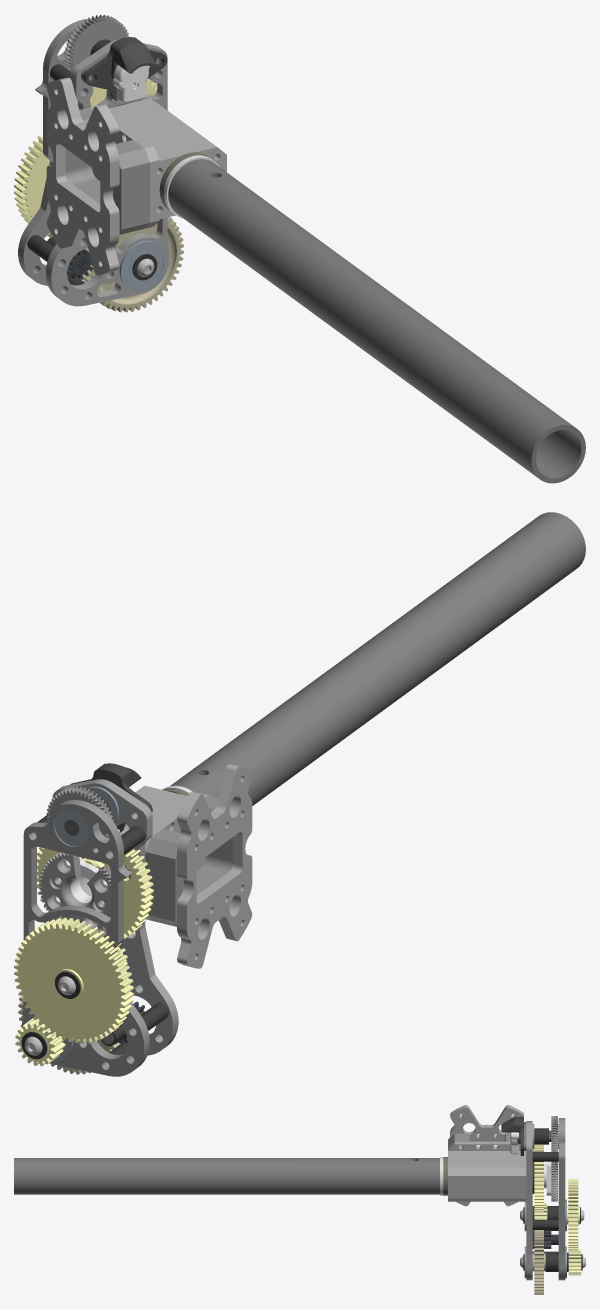
3 renders of one model, top to bottom at view 1: azimuth 30°, elevation 25°; view 2: azimuth 150°, elevation 25°; view 3: azimuth 270°, elevation 25°, orthographic. The views are drawn at different scales.
Parts seen in each view (by area): view 1: Part 5, Part 3 (×2), Part 1 (×3), Part 2, P333, 48t 20dp Aluminum 1/2" Hex Bore Pocketed Gear (WCP-0137), 54t 20dp Aluminum 1/2" Hex Bore Gear (217-3573), Spur gear (48 teeth), .5" Hex ID 1.125" OD Flanged Bearing (217-2734), cover rev_D; view 2: Part 5, Part 3 (×2), 54t 20dp Aluminum 1/2" Hex Bore Gear (217-3573) (×2), Part 1 (×3), Part 2, Spur gear (60 teeth), 18t 20dp Steel 1/2" Hex Bore Gear (217-5460), P333, Spur gear (48 teeth), .375" Round ID .875" OD Flanged Bearing (217-2733), Part 4; view 3: Part 5, Part 1, Part 3 (×2), 54t 20dp Aluminum 1/2" Hex Bore Gear (217-3573) (×2), Part 2, Spacer (Configurable) (×3), 48t 20dp Aluminum 1/2" Hex Bore Pocketed Gear (WCP-0137), P333, 18t 20dp Steel 1/2" Hex Bore Gear (217-5460), Spur gear (60 teeth).
Boxes of the visible parts, x1=… form: Part 5: x1=168, y1=159, x2=585, y2=483; Part 3 (×2): x1=18, y1=18, x2=119, y2=285; Part 1 (×3): x1=65, y1=98, x2=226, y2=234; Part 2: x1=46, y1=39, x2=169, y2=306; P333: x1=83, y1=37, x2=167, y2=100; 48t 20dp Aluminum 1/2" Hex Bore Pocketed Gear (WCP-0137): x1=82, y1=217, x2=183, y2=312; 54t 20dp Aluminum 1/2" Hex Bore Gear (217-3573): x1=14, y1=136, x2=52, y2=237; Spur gear (48 teeth): x1=65, y1=14, x2=129, y2=71; .5" Hex ID 1.125" OD Flanged Bearing (217-2734): x1=119, y1=240, x2=167, y2=291; cover rev_D: x1=112, y1=65, x2=149, y2=103; Part 5: x1=170, y1=512, x2=585, y2=805; Part 3 (×2): x1=22, y1=764, x2=252, y2=1076; 54t 20dp Aluminum 1/2" Hex Bore Gear (217-3573) (×2): x1=14, y1=829, x2=153, y2=1043; Part 1 (×3): x1=120, y1=785, x2=232, y2=926; Part 2: x1=52, y1=779, x2=178, y2=1055; Spur gear (60 teeth): x1=39, y1=852, x2=110, y2=930; 18t 20dp Steel 1/2" Hex Bore Gear (217-5460): x1=15, y1=1018, x2=65, y2=1066; P333: x1=70, y1=763, x2=152, y2=832; Spur gear (48 teeth): x1=46, y1=786, x2=113, y2=838; .375" Round ID .875" OD Flanged Bearing (217-2733): x1=54, y1=809, x2=88, y2=846; Part 4: x1=53, y1=857, x2=107, y2=924; Part 5: x1=14, y1=1158, x2=439, y2=1194; Part 1: x1=448, y1=1141, x2=526, y2=1201; Part 3 (×2): x1=450, y1=1105, x2=565, y2=1280; 54t 20dp Aluminum 1/2" Hex Bore Gear (217-3573) (×2): x1=534, y1=1144, x2=579, y2=1251; Part 2: x1=526, y1=1121, x2=532, y2=1280; Spacer (Configurable) (×3): x1=532, y1=1152, x2=558, y2=1271; 48t 20dp Aluminum 1/2" Hex Bore Pocketed Gear (WCP-0137): x1=532, y1=1230, x2=545, y2=1294; P333: x1=501, y1=1117, x2=523, y2=1155; 18t 20dp Steel 1/2" Hex Bore Gear (217-5460): x1=568, y1=1249, x2=581, y2=1275; Spur gear (60 teeth): x1=551, y1=1161, x2=557, y2=1201.
Size of the model in its own units: 0.0965 by 0.1806 by 0.5581.
